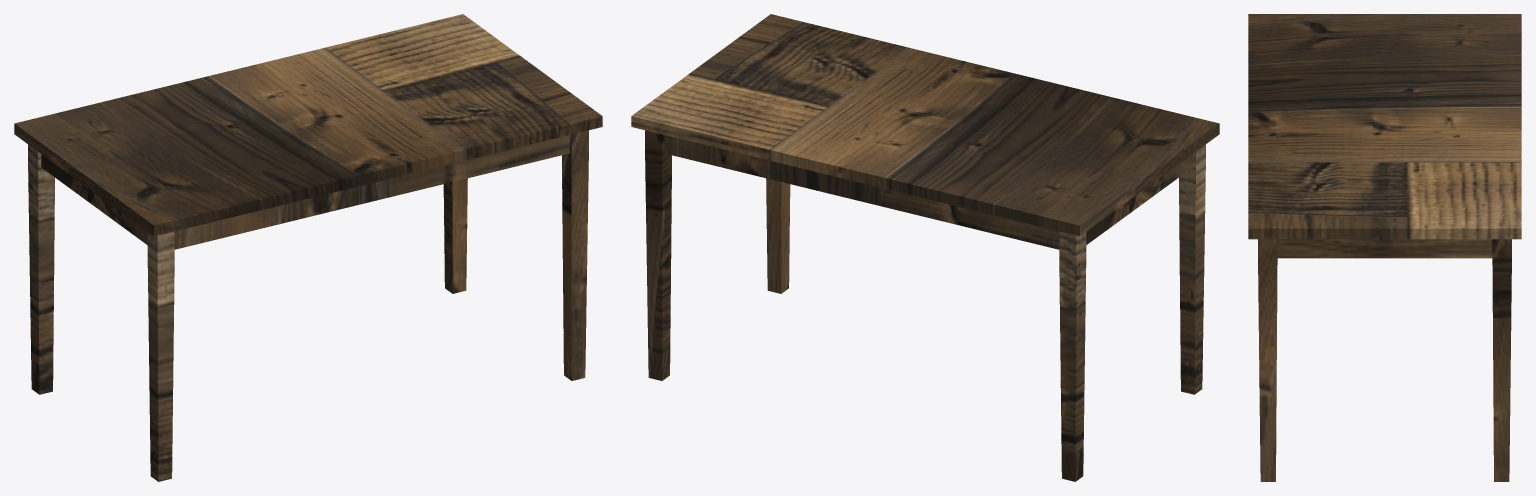
The model's file is tab4.glb.
3 renders of one model, left to right at view 1: azimuth 30°, elevation 25°; view 2: azimuth 150°, elevation 25°; view 3: azimuth 270°, elevation 25°, orthographic.
Visible parts, largest first — view 1: old_wooden_table; view 2: old_wooden_table; view 3: old_wooden_table.
Part boxes in pixels (<box>): old_wooden_table: <box>14,14,602,481</box>; old_wooden_table: <box>631,14,1219,481</box>; old_wooden_table: <box>1248,14,1521,481</box>.
Bounding box in the file's own units: 1.3 × 0.73 × 0.7.
1 material, 1 textured.
